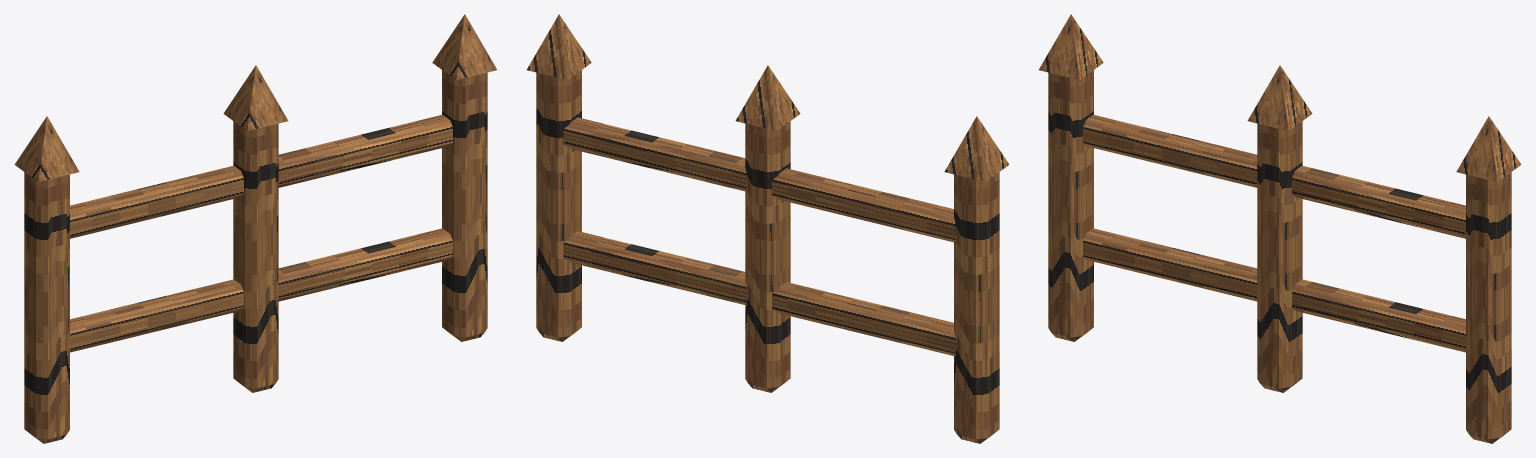
File: fence.glb
3 renders of one model, left to right at view 1: azimuth 30°, elevation 25°; view 2: azimuth 150°, elevation 25°; view 3: azimuth 330°, elevation 25°, orthographic.
Parts seen in each view (by area): view 1: fence_timber; view 2: fence_timber; view 3: fence_timber.
Part boxes in pixels (<box>): fence_timber: <box>14,14,496,443</box>; fence_timber: <box>527,14,1009,443</box>; fence_timber: <box>1039,14,1521,443</box>.
Size of the model in its own units: 2.2 by 1.47 by 0.198.
1 material, 1 textured.
